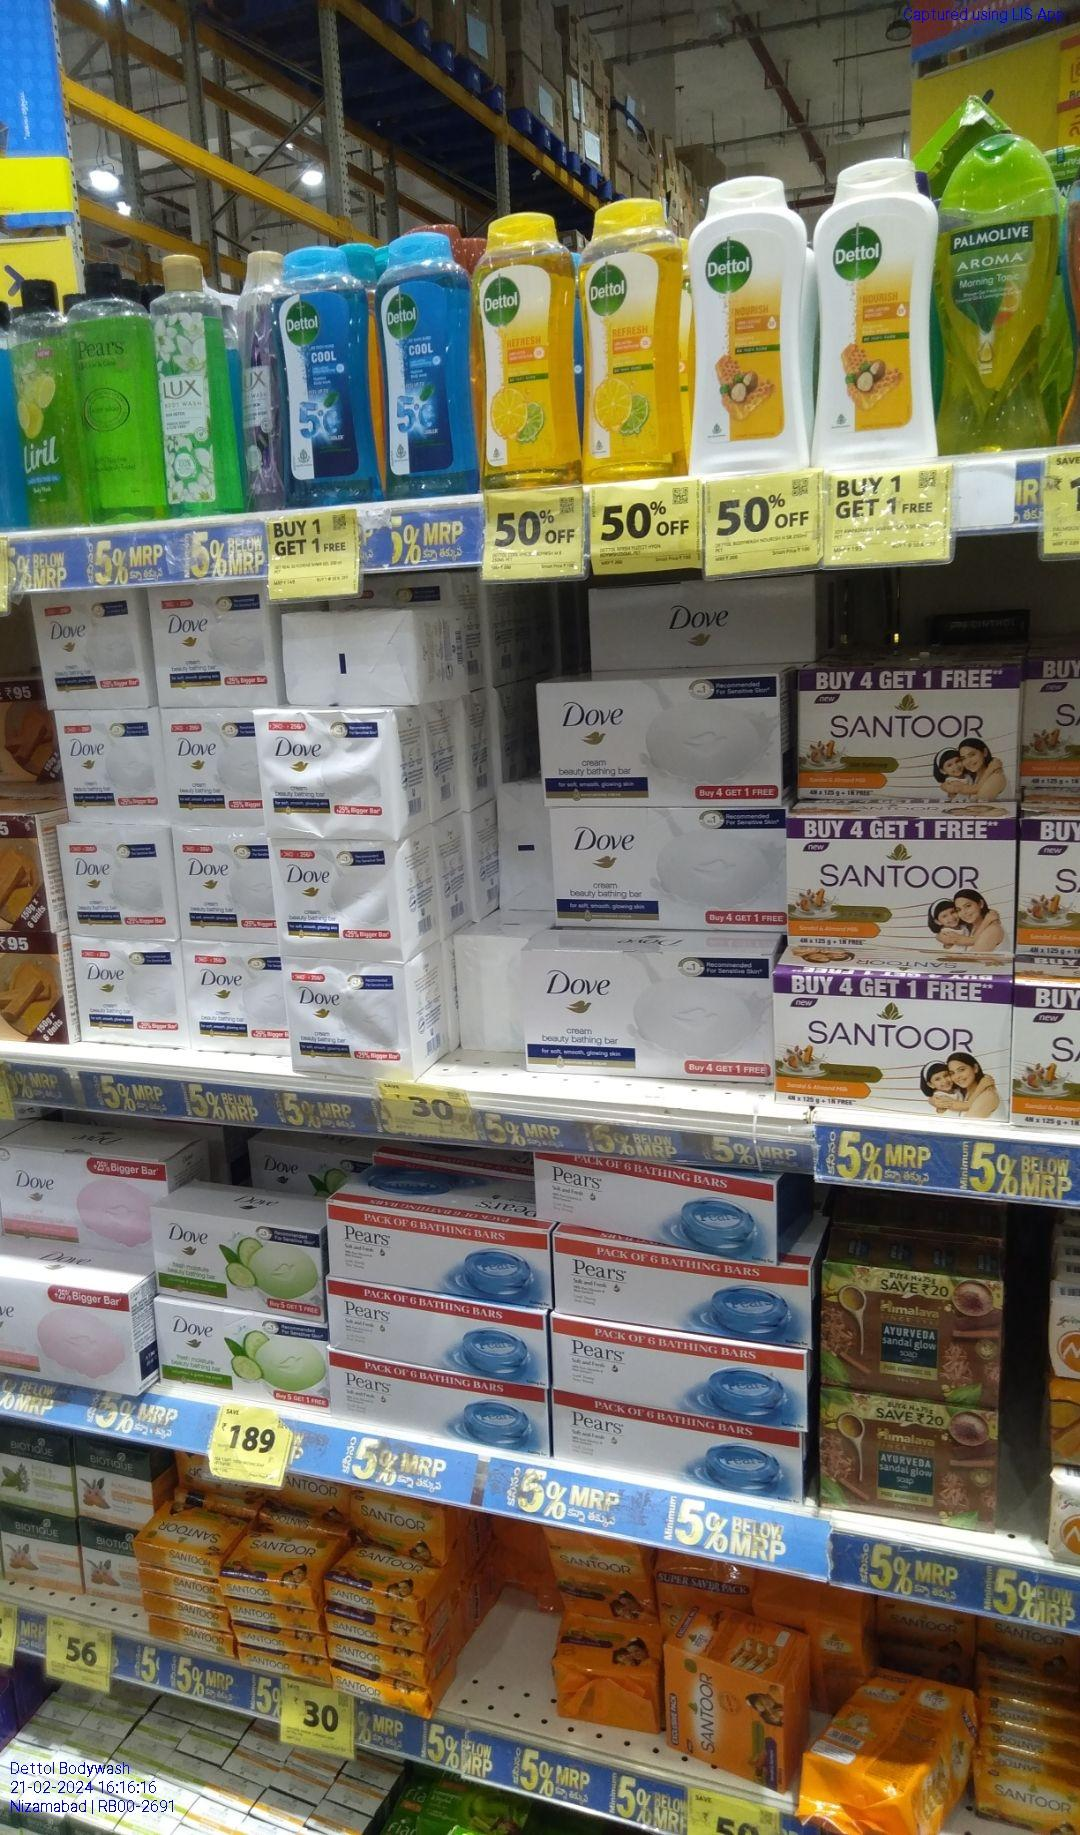Dettol_Bodywash_Cool: (278, 245, 374, 504), (381, 233, 476, 490)
Dettol_Bodywash_Refresh: (579, 206, 687, 474), (480, 209, 576, 482)
Dettol_Nourish_Body_Wash_250ML: (814, 162, 940, 470), (694, 184, 804, 466)
Liril_Lime_and_Tea_Tree_Oil_Body_Wash_250ML: (4, 284, 84, 528)
Lux_Body_Wash_Skin_Detox_Freesia_Scent_and_Alove_Vera_245ML: (158, 245, 230, 514)
Palmolive_Aroma_Morning_Tonic_Shower_Gel_250ML: (944, 146, 1058, 450)
Pears_Pure_Glycerin_and_Lemon_Flower_Extracts_Body_Wash_250ML: (72, 270, 170, 526)
